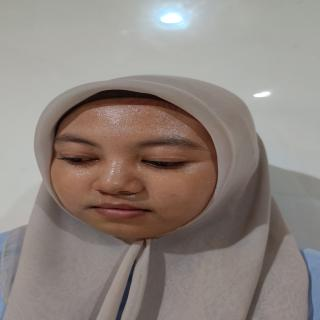Sedih: (41, 92, 233, 251)
